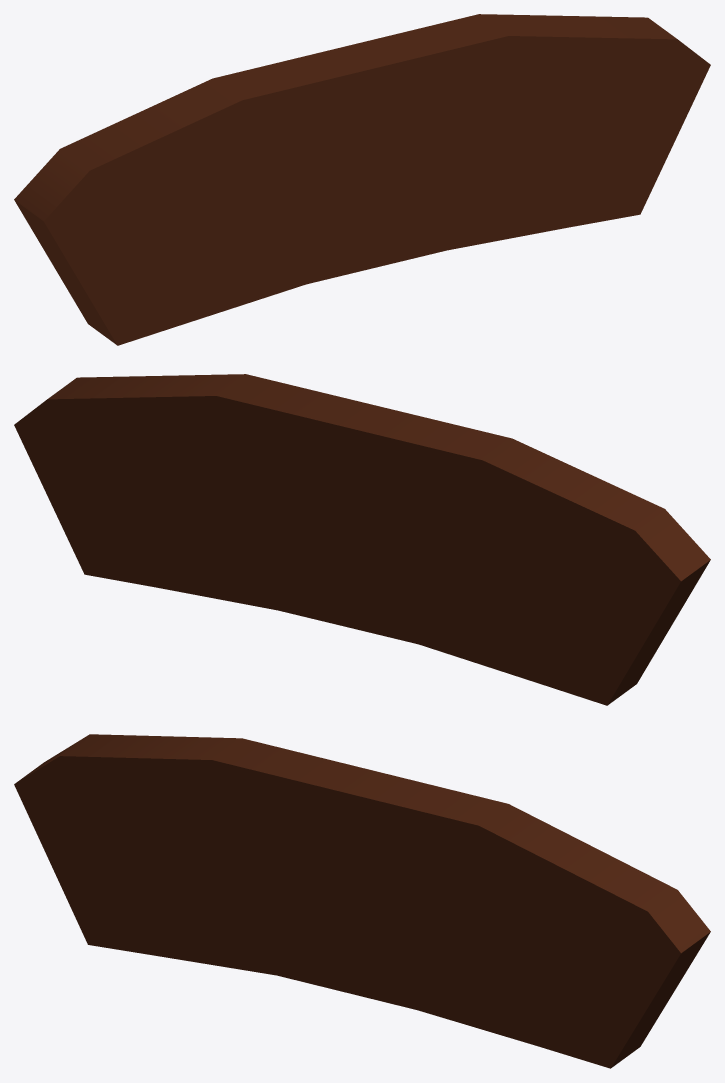
The model's file is Kaban.obj.
The picture shows the model from 3 angles, top to bottom: view 1: azimuth 30°, elevation 25°; view 2: azimuth 150°, elevation 25°; view 3: azimuth 330°, elevation 25°; orthographic projection.
Visible parts, largest first — view 1: pCube1; view 2: pCube1; view 3: pCube1.
Part boxes in pixels (bbox=[...]): pCube1: bbox=[14, 14, 710, 345]; pCube1: bbox=[14, 374, 710, 705]; pCube1: bbox=[14, 734, 710, 1068].
Size of the model in its own units: 2.59 by 0.7966 by 0.2.
Materials: 1 (1 with a texture image).
